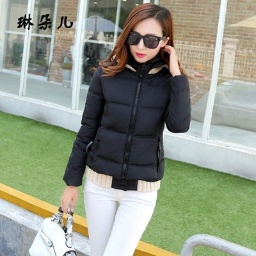face: (105, 2, 186, 72)
